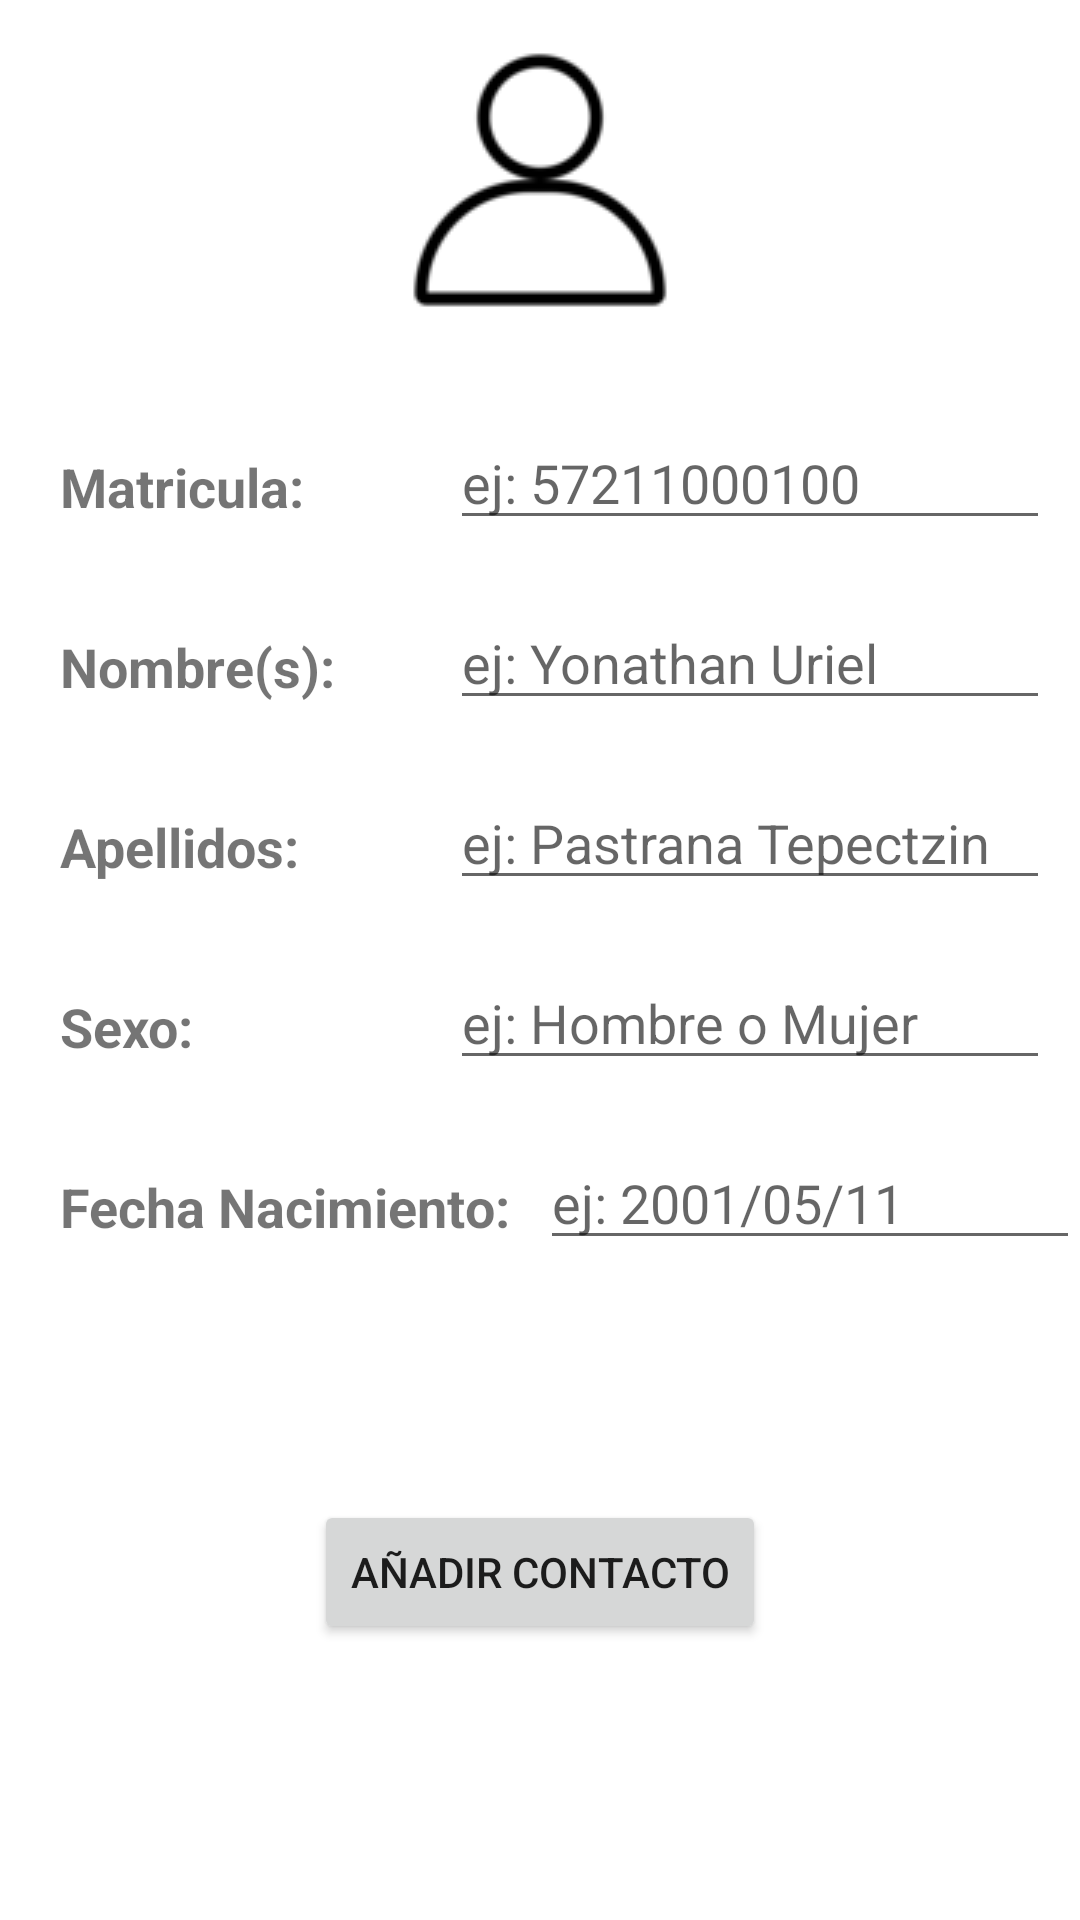

Icon bounding boxes for this 1080x1920 phone screenshot, format {"left": x1, "top": y1, "right": x2, "bottom": y2}:
contactocrud: {"left": 413, "top": 53, "right": 667, "bottom": 307}
